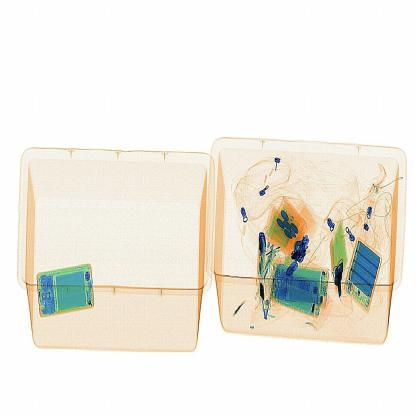wrench: (235, 298, 252, 322)
